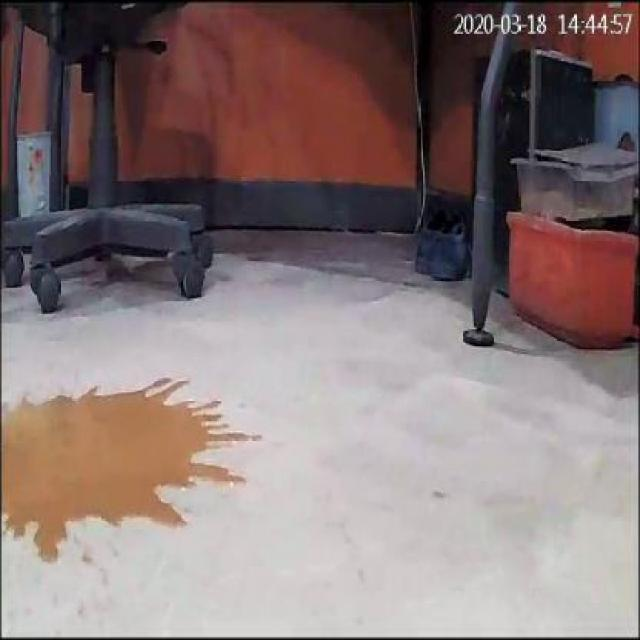spill: (5, 363, 256, 565)
